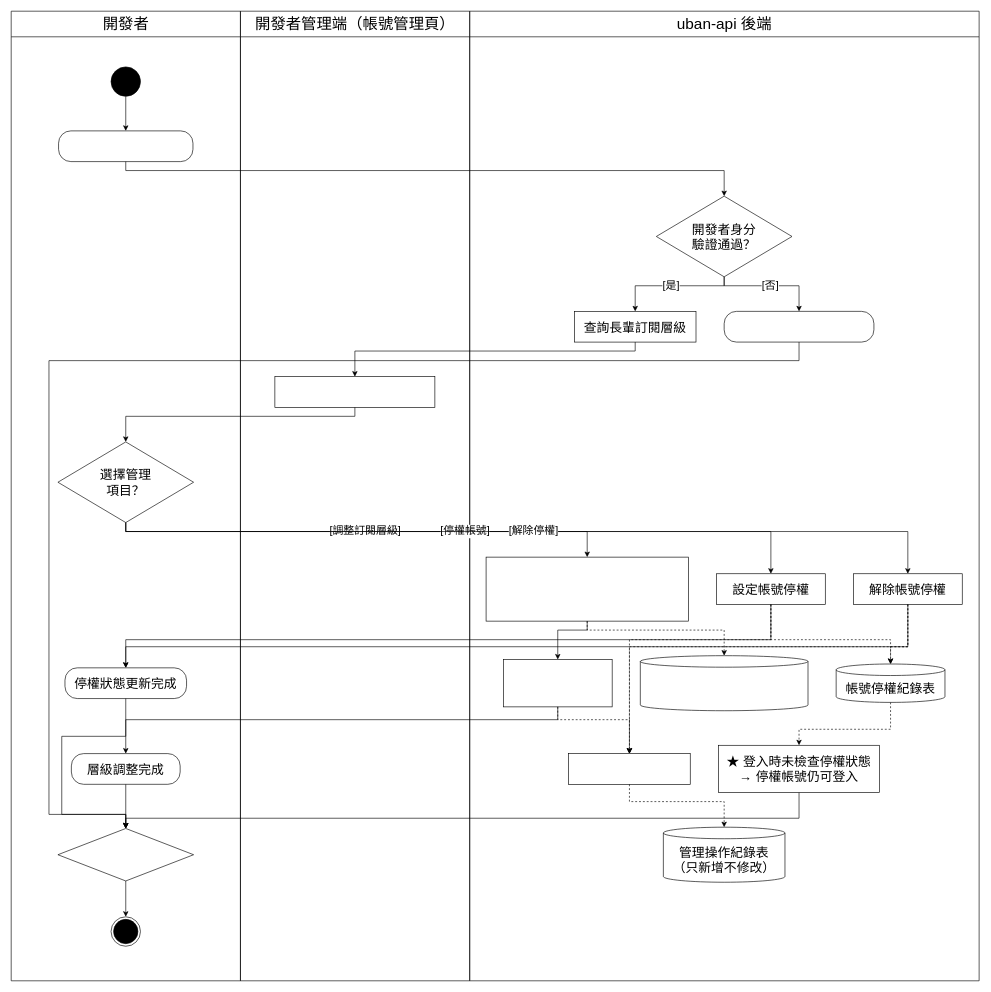
Image size: 991x992. Some labels were removed from this diagram. The centre of each missing label's shape, as x and y in pixels:
401 未授權，擋下請求: [799,326]
寫入管理操作紀錄: [629,768]
清除層級快取 立即生效: [557,683]
訂閱狀態資料表 （以 RevenueCat 為準）: [724,683]
調整訂閱層級 （免費 2 台、黃金 3 台、鑽石 5 台）: [586,588]
進入『帳號管理』頁: [125,146]
顯示目前層級與停權狀態: [354,391]
